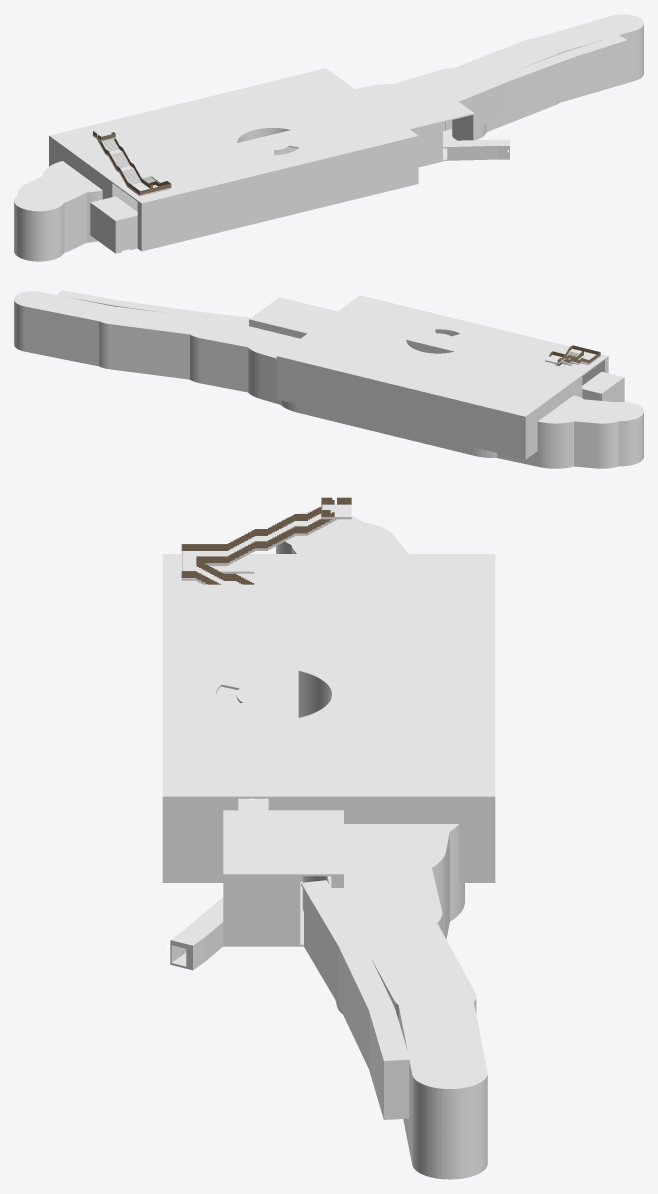
3 renders of one model, top to bottom at view 1: azimuth 30°, elevation 25°; view 2: azimuth 150°, elevation 25°; view 3: azimuth 270°, elevation 25°, orthographic. The views are drawn at different scales.
Visible parts, largest first — view 1: b2_ceiling_rock_ceiling, b2_wall_plaster, b2_floor_stone_floor, b2_basin_pool_tile, b2_stair_wood, b2_rail_rail; view 2: b2_ceiling_rock_ceiling, b2_wall_plaster, b2_basin_pool_tile, b2_floor_stone_floor, b2_rail_rail, b2_stair_wood; view 3: b2_ceiling_rock_ceiling, b2_wall_plaster, b2_rail_rail, b2_floor_stone_floor, b2_stair_wood.
Part boxes in pixels (<box>): b2_ceiling_rock_ceiling: <box>14,14,643,221</box>; b2_wall_plaster: <box>14,25,643,260</box>; b2_floor_stone_floor: <box>14,72,643,261</box>; b2_basin_pool_tile: <box>69,63,634,249</box>; b2_stair_wood: <box>92,131,171,196</box>; b2_rail_rail: <box>93,131,171,194</box>; b2_ceiling_rock_ceiling: <box>14,290,643,424</box>; b2_wall_plaster: <box>14,301,643,467</box>; b2_basin_pool_tile: <box>217,371,623,466</box>; b2_floor_stone_floor: <box>14,345,643,468</box>; b2_rail_rail: <box>549,345,600,365</box>; b2_stair_wood: <box>545,349,600,368</box>; b2_ceiling_rock_ceiling: <box>162,511,495,1090</box>; b2_wall_plaster: <box>162,542,495,1177</box>; b2_rail_rail: <box>181,497,351,584</box>; b2_floor_stone_floor: <box>162,686,495,1179</box>; b2_stair_wood: <box>181,504,351,584</box>.
Bounding box in the file's own units: 181 × 25.9 × 44.
